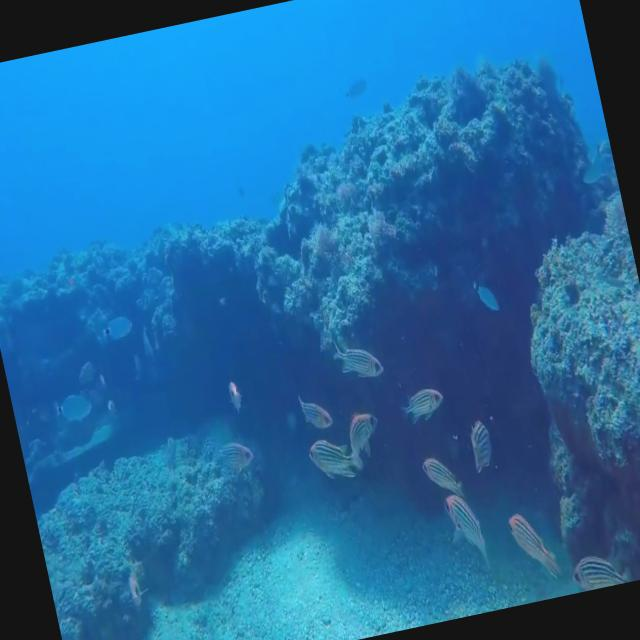Asker Baligi: (432, 474, 498, 566), (297, 416, 369, 492), (330, 326, 392, 404), (397, 374, 450, 430)
